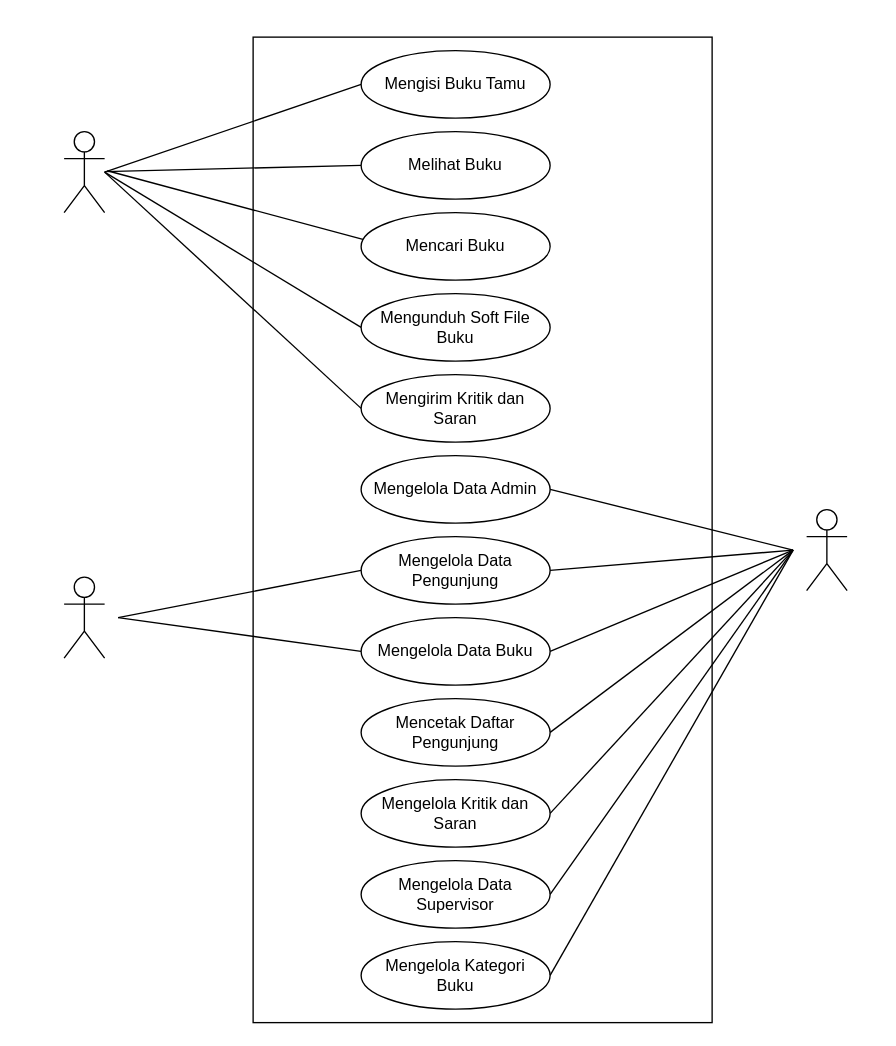
Image size: 896x1046. Some labels were removed from this diagram. Each missing label, with the centre of its shape:
Admin: point 826,549
Pengunjung: point 84,171
Supervisor: point 84,617
